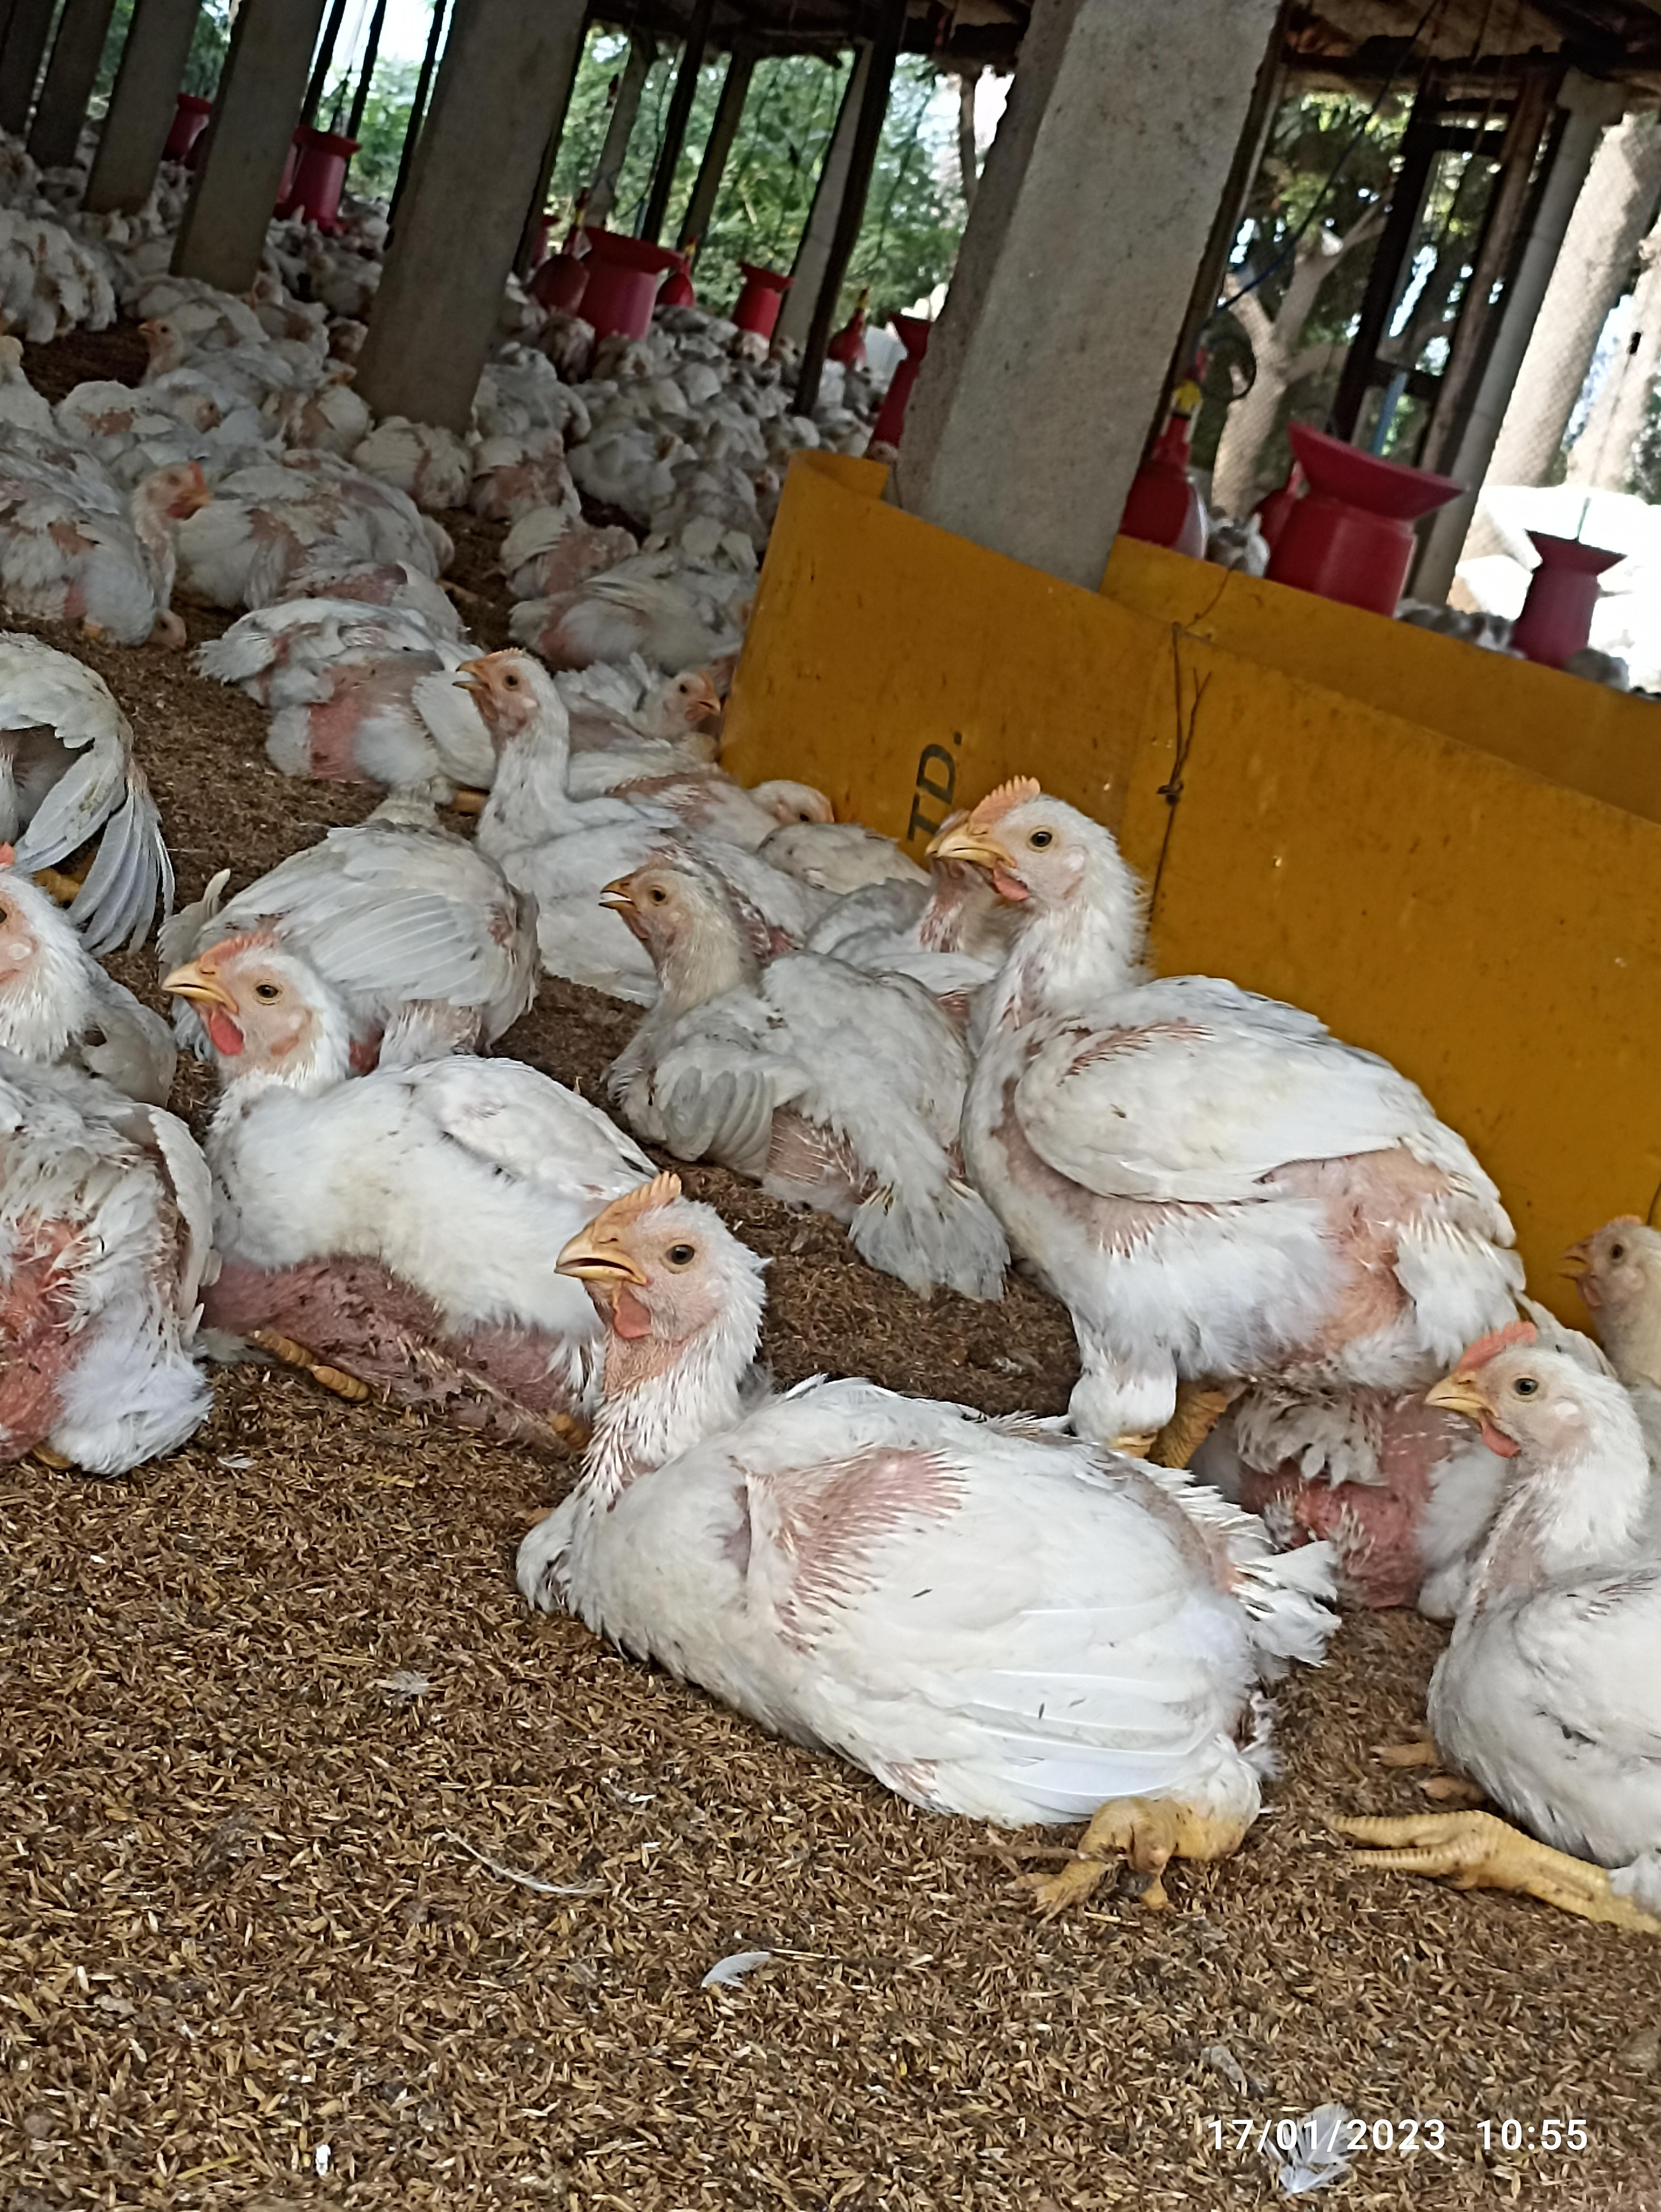Pollos: (551, 1167, 1310, 1818), (937, 773, 1534, 1315), (167, 930, 558, 1338), (1445, 1329, 1661, 1901), (595, 864, 926, 1178), (443, 640, 703, 850), (0, 455, 218, 647)
